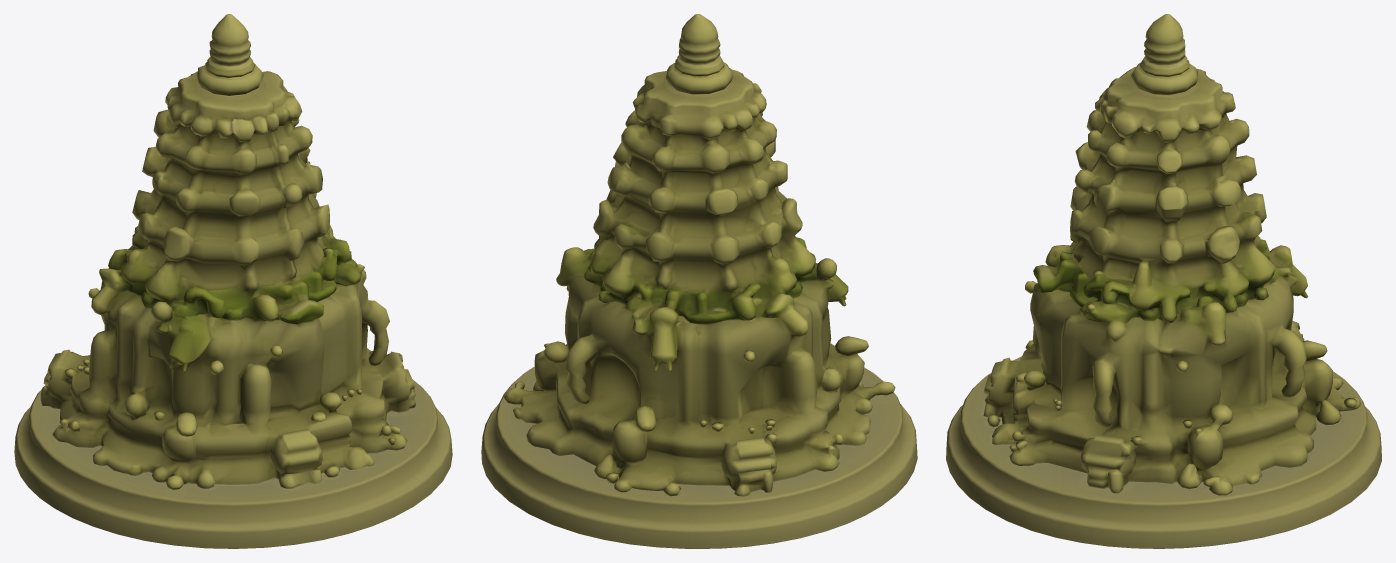
Rendered from cambodia-envi-2.glb.
3 renders of one model, left to right at view 1: azimuth 30°, elevation 25°; view 2: azimuth 150°, elevation 25°; view 3: azimuth 270°, elevation 25°, orthographic.
Visible parts, largest first — view 1: tripo_node_a2f98a9c-f437-46fa-9398-f740de1941f4; view 2: tripo_node_a2f98a9c-f437-46fa-9398-f740de1941f4; view 3: tripo_node_a2f98a9c-f437-46fa-9398-f740de1941f4.
Boxes of the visible parts, <box> form: tripo_node_a2f98a9c-f437-46fa-9398-f740de1941f4: <box>14,14,452,548</box>; tripo_node_a2f98a9c-f437-46fa-9398-f740de1941f4: <box>481,14,917,548</box>; tripo_node_a2f98a9c-f437-46fa-9398-f740de1941f4: <box>946,14,1381,548</box>.
Size of the model in its own units: 0.8931 by 0.9995 by 0.8931.
1 material, 1 textured.
